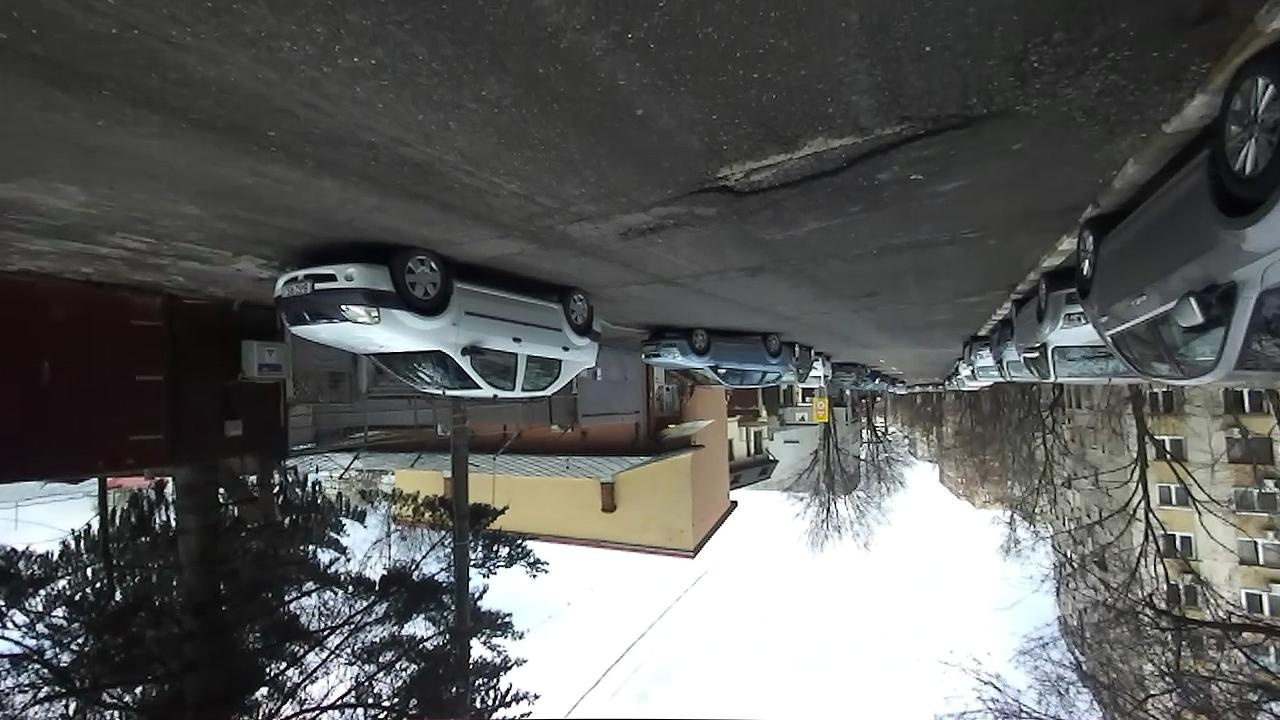pothole: (675, 96, 1007, 201), (609, 214, 691, 245)
